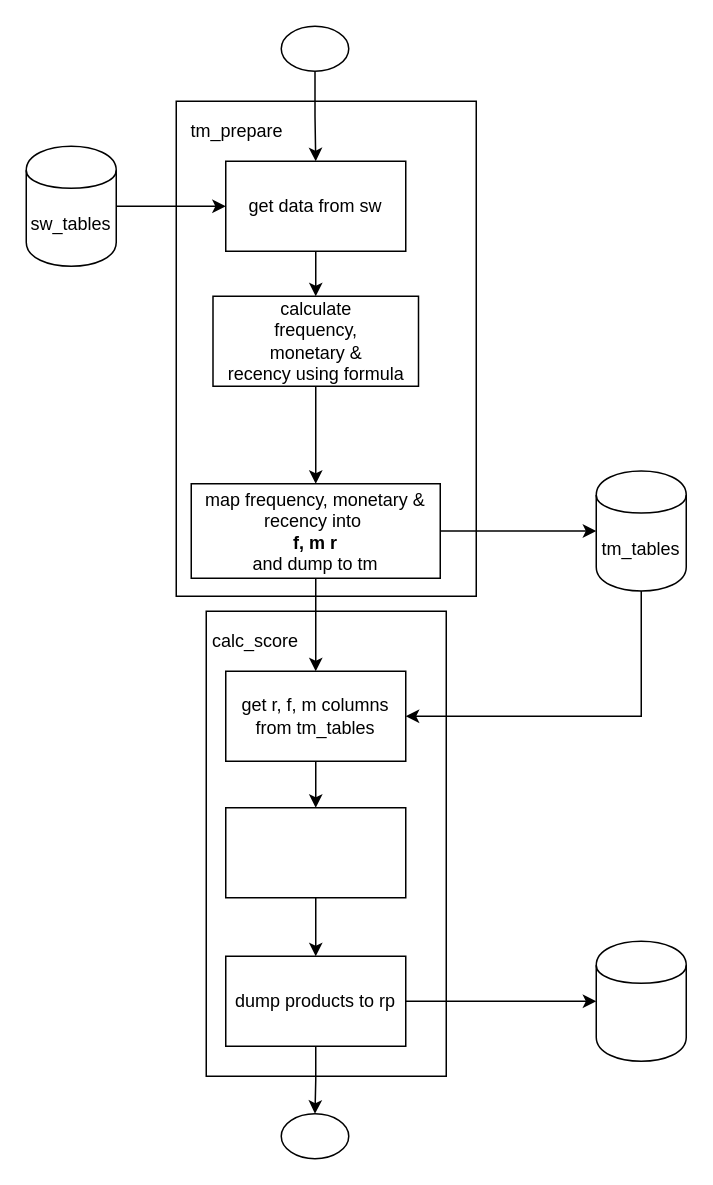
The diagram is 713 pixels wide and 1185 high, and some of its shapes have lost their labels. Here are the shapes that lost their labels. From the top down, the centre of each, then its label:
At [314,48]: "start".
At [315,852]: "calculate rfm score from r, f and m using custom formula".
At [640,1000]: "rp_tables".
At [314,1135]: "stop".
